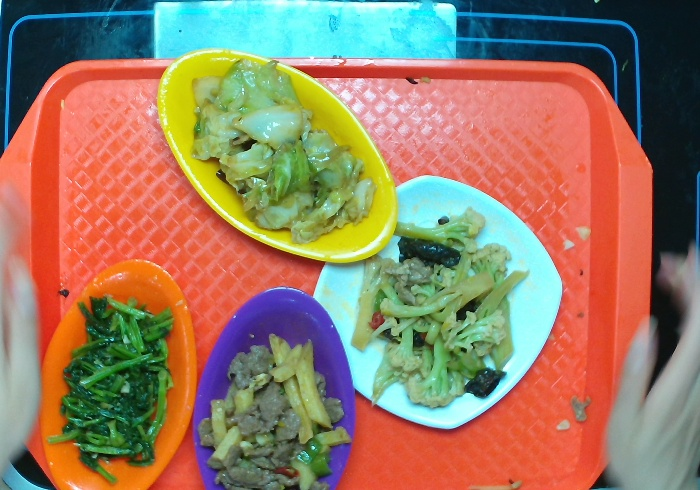RJxy-Fen_Hong_Tuo_Yuan: (190, 281, 360, 490)
RJxy-Huang_Se_Tuo_Yuan: (155, 51, 397, 266)
RJxy-Ju_Huang_Tuo_Yuan: (36, 255, 199, 490)
RJxy-Si_Fang_Die: (311, 174, 565, 435)
